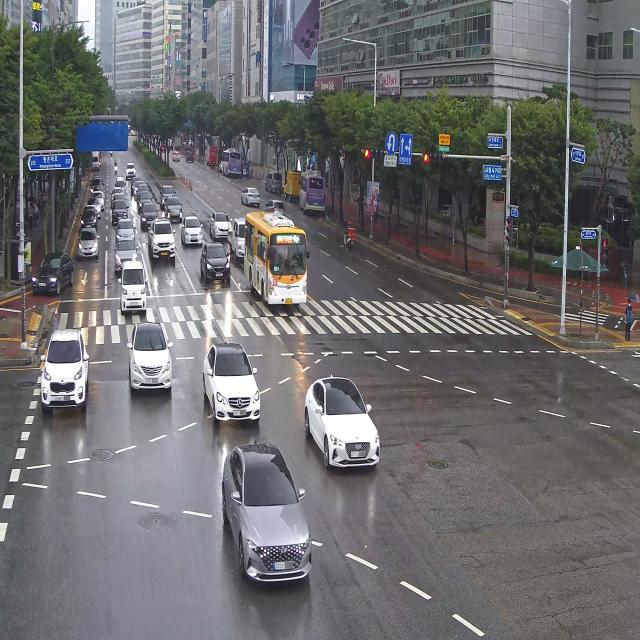Bus: (243, 209, 307, 308), (301, 165, 328, 222), (222, 139, 242, 181)
Car: (213, 436, 323, 606), (296, 358, 386, 490), (194, 332, 273, 440), (38, 317, 96, 441), (124, 315, 190, 410), (117, 252, 157, 325), (30, 247, 76, 299), (197, 238, 233, 287), (148, 216, 177, 266), (178, 212, 205, 248), (76, 224, 100, 263), (112, 236, 139, 268), (207, 208, 231, 240), (114, 216, 136, 245), (138, 200, 160, 227), (80, 203, 100, 232), (239, 185, 262, 209), (263, 167, 284, 192), (166, 194, 183, 222), (112, 200, 129, 228), (157, 182, 175, 208), (266, 198, 285, 218), (87, 193, 102, 217), (138, 191, 152, 213), (88, 178, 105, 196), (114, 176, 127, 197), (110, 186, 124, 204), (124, 161, 137, 178), (94, 191, 104, 212), (92, 184, 104, 200), (114, 192, 126, 205), (131, 175, 140, 192), (134, 180, 142, 198), (138, 183, 150, 195), (217, 156, 225, 173), (172, 149, 180, 163), (186, 150, 194, 162)
Motorcycle: (334, 216, 362, 262), (111, 157, 120, 175), (110, 150, 114, 160)
Truck: (227, 216, 251, 264), (282, 171, 301, 201), (205, 144, 218, 170), (89, 149, 101, 171), (175, 134, 181, 153)
